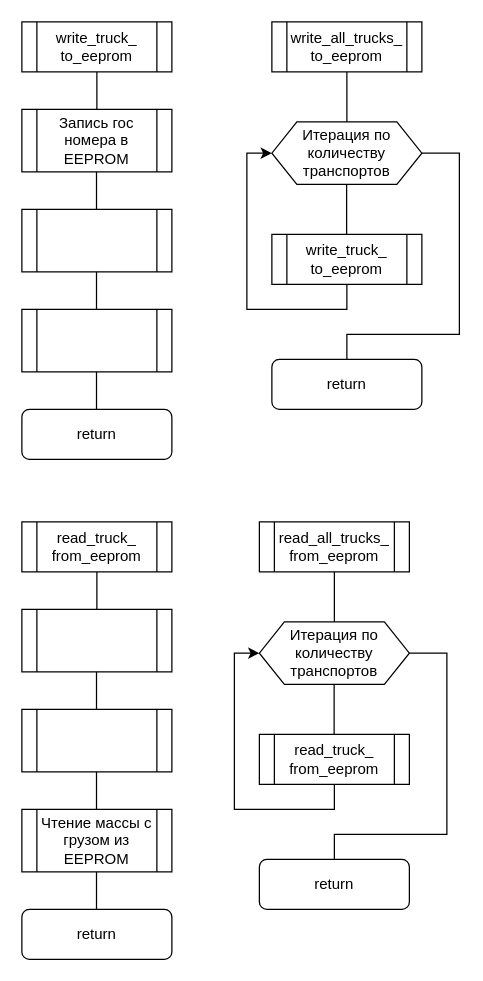
Some shapes in this 483 by 981 pixel diagram are drawn without their labels. The shapes that lost their labels are listed below. From the top down, each one's centre as x and y in pixels, then its label:
At [96,240]: "Запись массы без груза в EEPROM".
At [96,340]: "Запись массы с грузом в EEPROM".
At [96,640]: "Чтение гос номера из EEPROM".
At [96,740]: "Чтение массы без груза из EEPROM".
